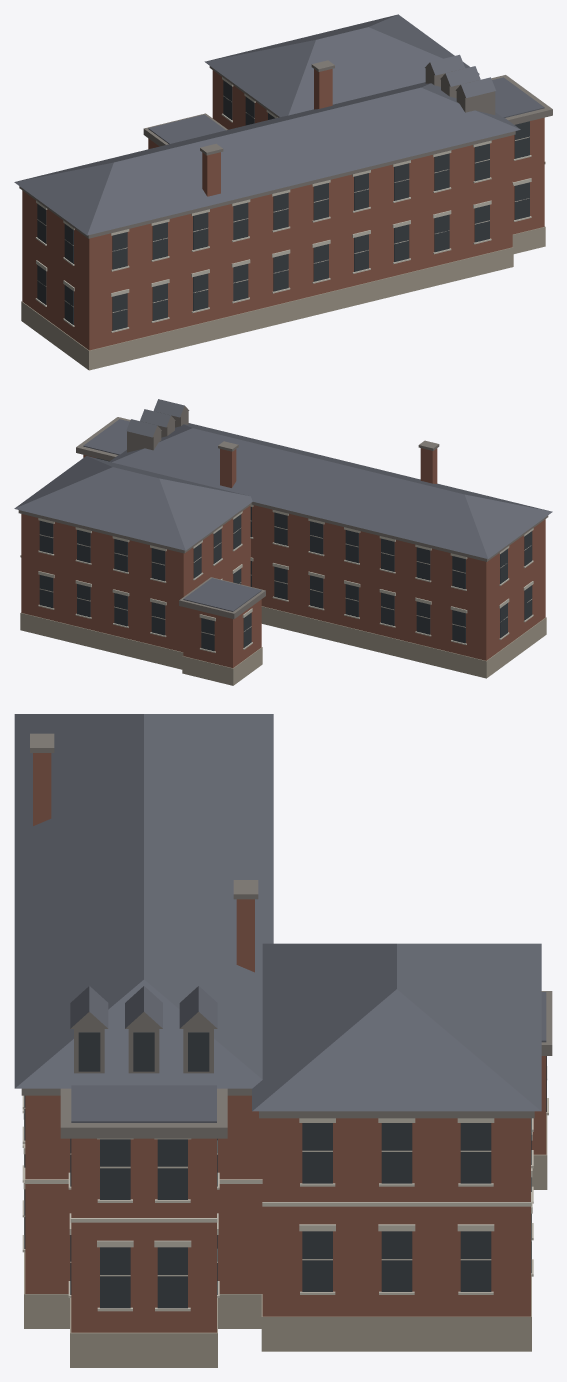
File: hibbard_house_1701_prairie__draft_1904.glb
3 views of the same model, one above another, from view 1: azimuth 30°, elevation 25°; view 2: azimuth 150°, elevation 25°; view 3: azimuth 270°, elevation 25° (orthographic). The views are drawn at different scales.
Parts seen in each view (by area): view 1: hibbard_house_1701_prairie__draft_1904; view 2: hibbard_house_1701_prairie__draft_1904; view 3: hibbard_house_1701_prairie__draft_1904.
Boxes of the visible parts, x1,y1,x2,y2 form: hibbard_house_1701_prairie__draft_1904: (14,14,552,370); hibbard_house_1701_prairie__draft_1904: (14,399,552,685); hibbard_house_1701_prairie__draft_1904: (14,714,552,1367).
Size of the model in its own units: 31.95 by 11.95 by 17.55.
